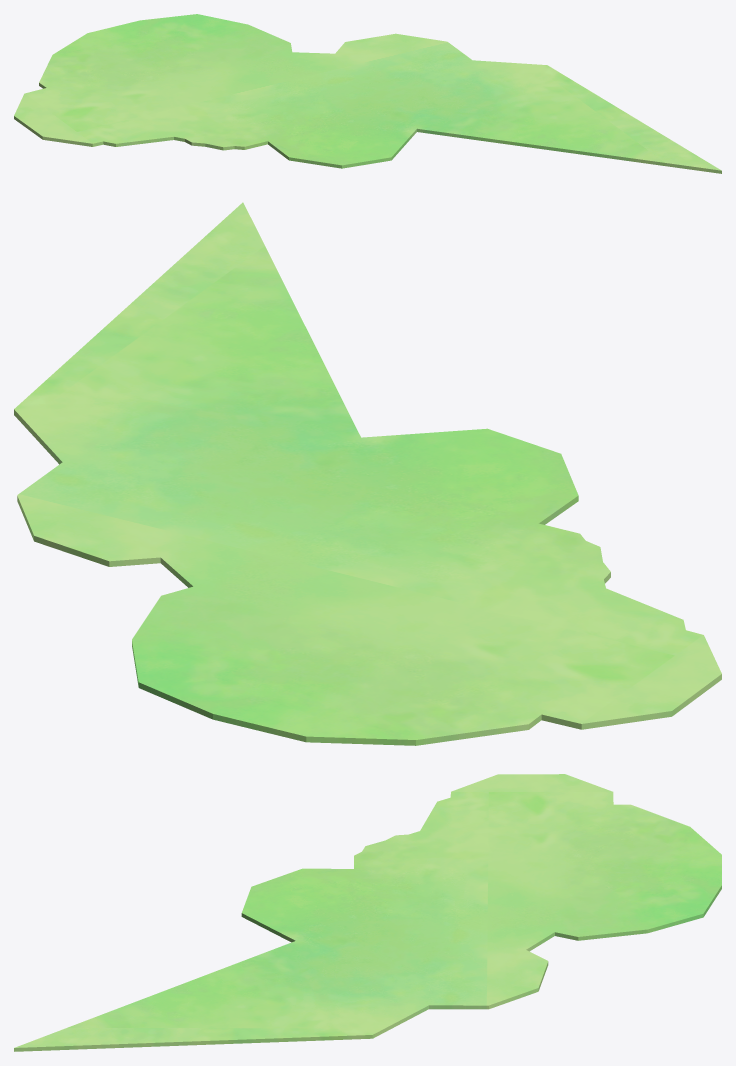
The model's file is Terrain3_upper.fbx.
The picture shows the model from 3 angles, top to bottom: view 1: azimuth 30°, elevation 25°; view 2: azimuth 150°, elevation 25°; view 3: azimuth 270°, elevation 25°; orthographic projection. The views are drawn at different scales.
Parts seen in each view (by area): view 1: Terrain3_upper; view 2: Terrain3_upper; view 3: Terrain3_upper.
Part boxes in pixels (x1=…): Terrain3_upper: x1=14, y1=14, x2=721, y2=173; Terrain3_upper: x1=14, y1=202, x2=721, y2=745; Terrain3_upper: x1=14, y1=774, x2=721, y2=1051.
Size of the model in its own units: 8600 by 56.93 by 9397.
Materials: 1 (1 with a texture image).
